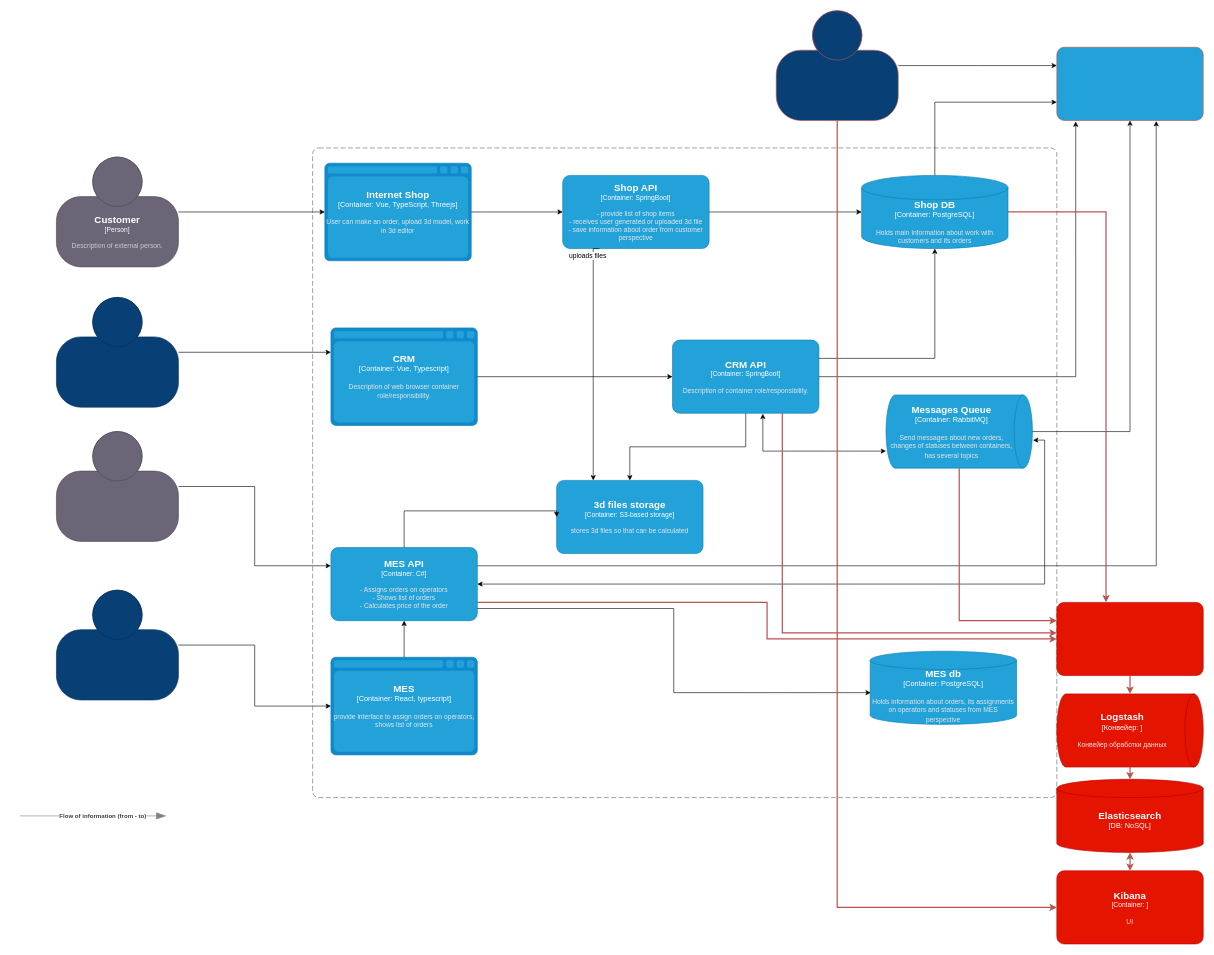
Image size: 1214x955. Some labels were removed from this diagram. The shapes that lost their labels are listed below. From the top down, each one's box as (x1, y1, x2, y2) in pixels, then its label:
(776, 10, 898, 120): Admin [Person] Анализ метрик
(1056, 47, 1203, 120): Prometheus [Container: ] Сбор метрик
(56, 297, 178, 407): Seller [Person] Operates with order, confirms manufacturing for the user
(56, 431, 178, 541): API user [Person] Description of external person.
(312, 147, 1057, 798): Jewerly Store System [Software System]
(56, 590, 178, 700): Operator [Person] Takes order in work, manufactures jewerly
(1056, 602, 1203, 676): Filebeat [Container: ] Сбор логов
